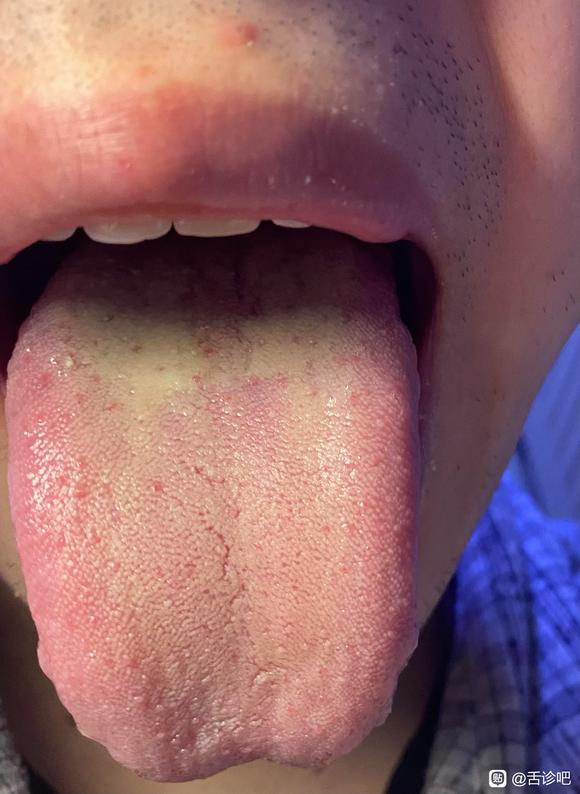hongdianshe: (148, 478, 165, 497)
hongshe: (5, 219, 422, 781)
huangtaishe: (5, 219, 422, 781)
